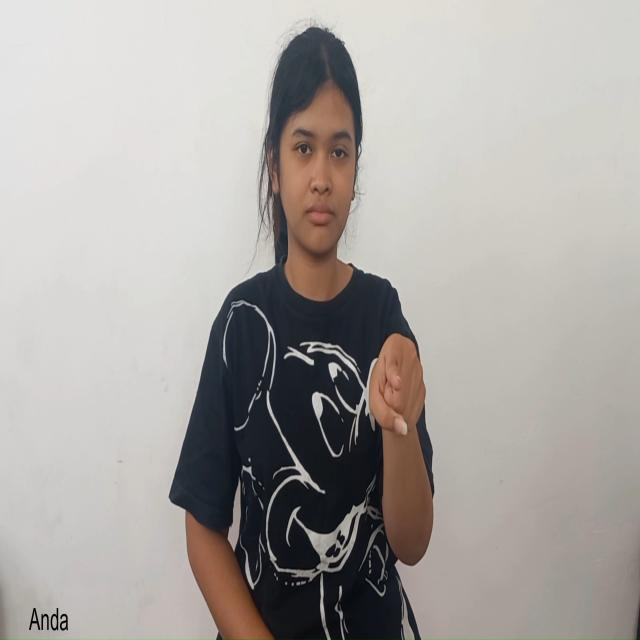Anda -BISINDO-: (341, 299, 454, 501)
